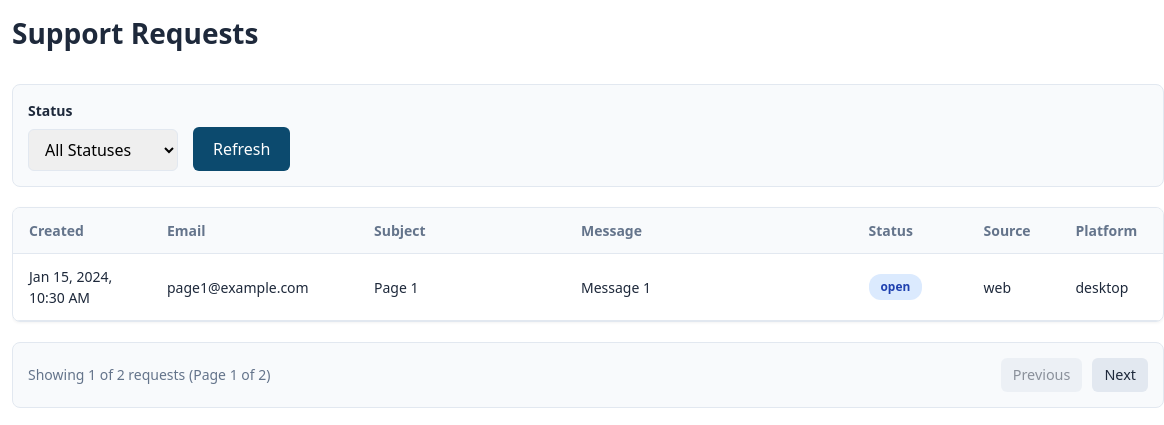
Scenario: SupportRequestsPanel › handles pagination correctly
Check: the text "page1@example.com" is shown, box top-left (151, 254), bottom-right (358, 320)
Click the button "Next".
click(1120, 375)  # box top-left (1092, 358), bottom-right (1148, 392)
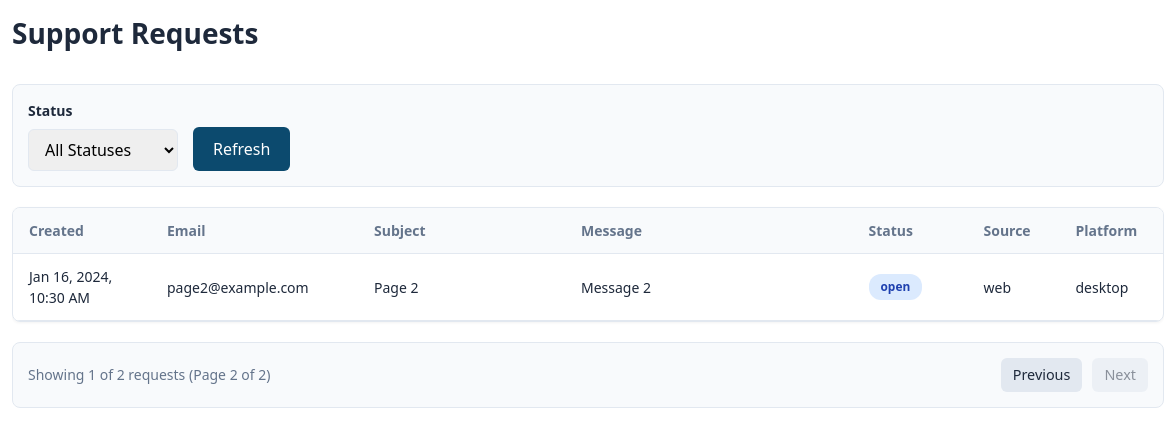
Check: the text "page2@example.com" is shown, box top-left (151, 254), bottom-right (358, 320)
Check: the text "page1@example.com" is gone
